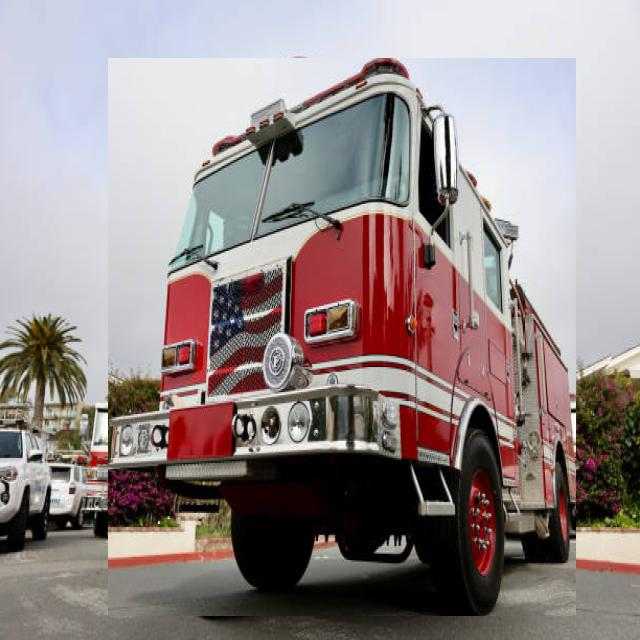emergency: (108, 58, 576, 616)
